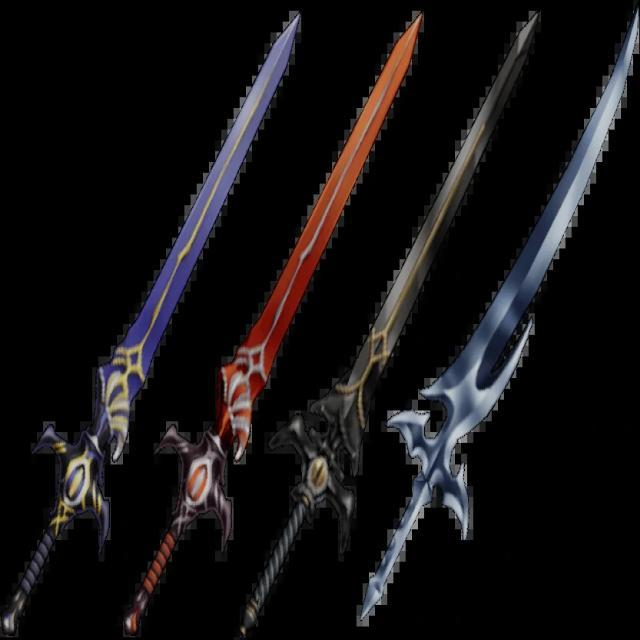sword: (239, 10, 544, 640), (121, 8, 425, 638), (1, 6, 304, 638), (361, 3, 640, 621)
